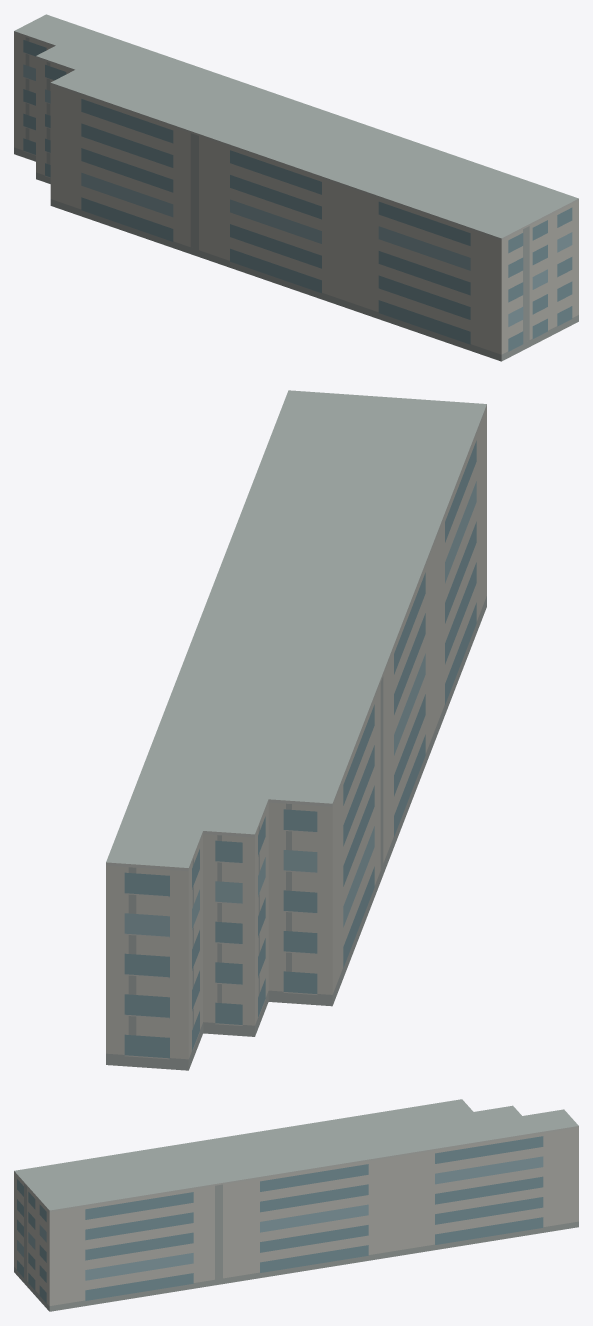
File: residential-231fe2e6-855c-46f6-a8a0-95dbfd43cd79.glb
The picture shows the model from 3 angles, top to bottom: view 1: azimuth 30°, elevation 25°; view 2: azimuth 150°, elevation 25°; view 3: azimuth 270°, elevation 25°; orthographic projection. The views are drawn at different scales.
Parts seen in each view (by area): view 1: residential-231fe2e6-855c-46f6-a8a0-95dbfd43cd79.tmp; view 2: residential-231fe2e6-855c-46f6-a8a0-95dbfd43cd79.tmp; view 3: residential-231fe2e6-855c-46f6-a8a0-95dbfd43cd79.tmp.
Boxes of the visible parts, x1=… form: residential-231fe2e6-855c-46f6-a8a0-95dbfd43cd79.tmp: x1=14, y1=14, x2=578, y2=361; residential-231fe2e6-855c-46f6-a8a0-95dbfd43cd79.tmp: x1=106, y1=390, x2=486, y2=1070; residential-231fe2e6-855c-46f6-a8a0-95dbfd43cd79.tmp: x1=14, y1=1099, x2=578, y2=1311.
Size of the model in its own units: 35.99 by 15.25 by 77.11.
